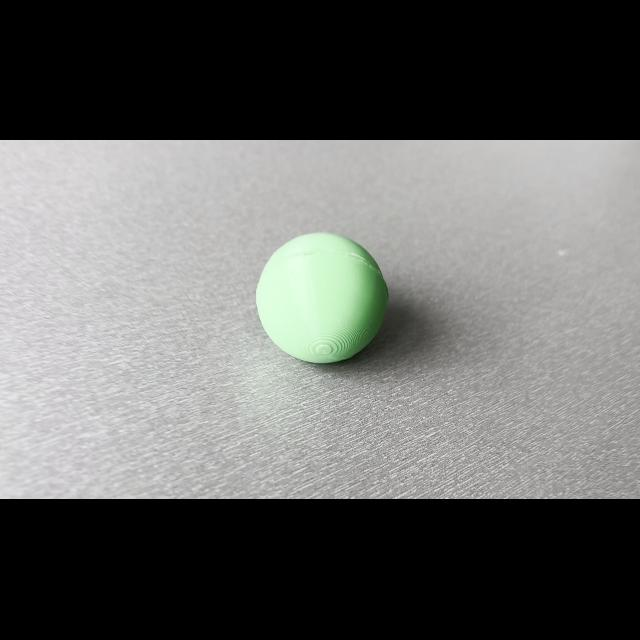objects: (246, 218, 399, 370)
